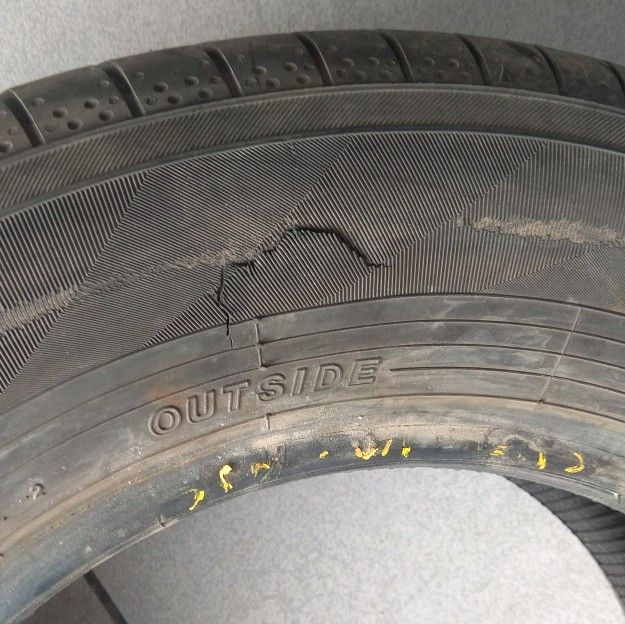cut: (215, 225, 400, 336)
